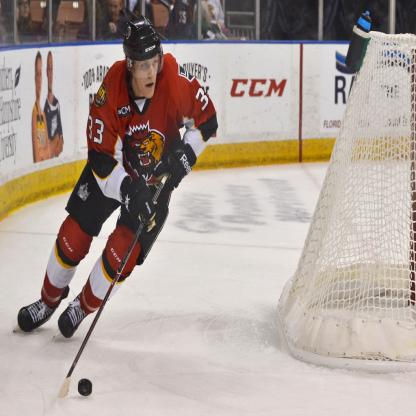Helmet: (120, 13, 160, 93)
